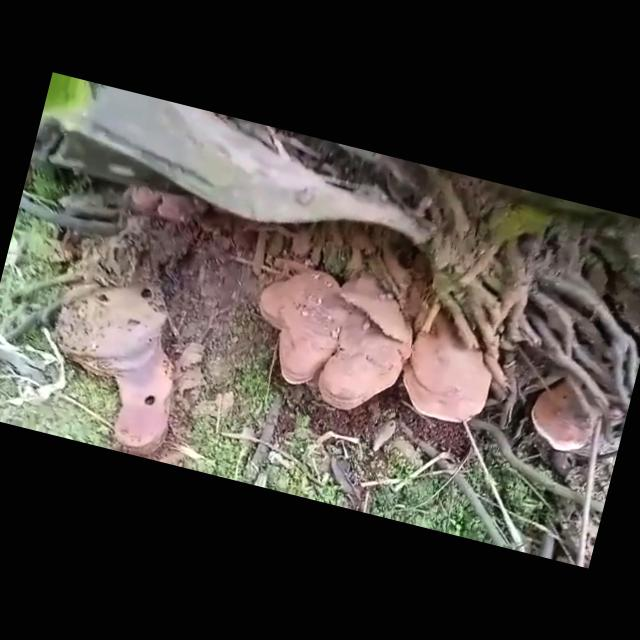ganoderma: (31, 271, 206, 463), (238, 254, 427, 424), (395, 322, 504, 431), (523, 374, 608, 460)
